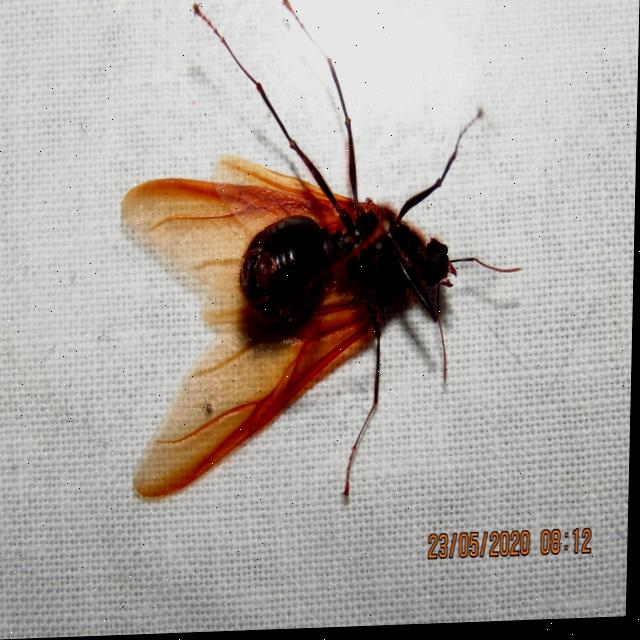Alive-Male-Alate: (116, 0, 528, 508)
